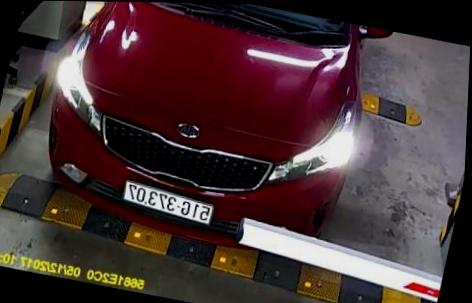License_Plate: (112, 182, 222, 236)
